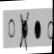correct: (33, 17, 42, 42)
no answer: (7, 15, 17, 40), (46, 19, 53, 41)
not correct: (17, 10, 31, 52)
